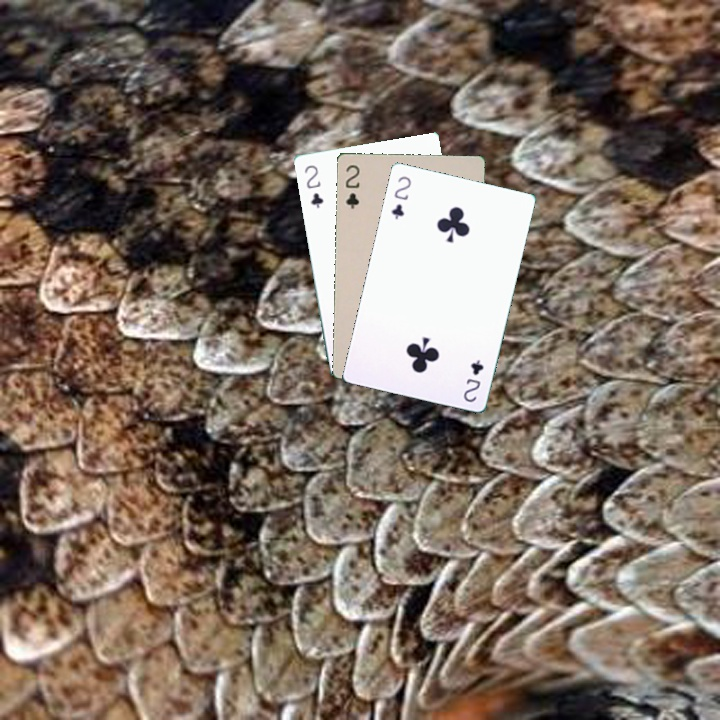2c: (387, 172, 414, 222), (459, 355, 486, 405), (300, 161, 326, 211), (341, 160, 362, 211)
